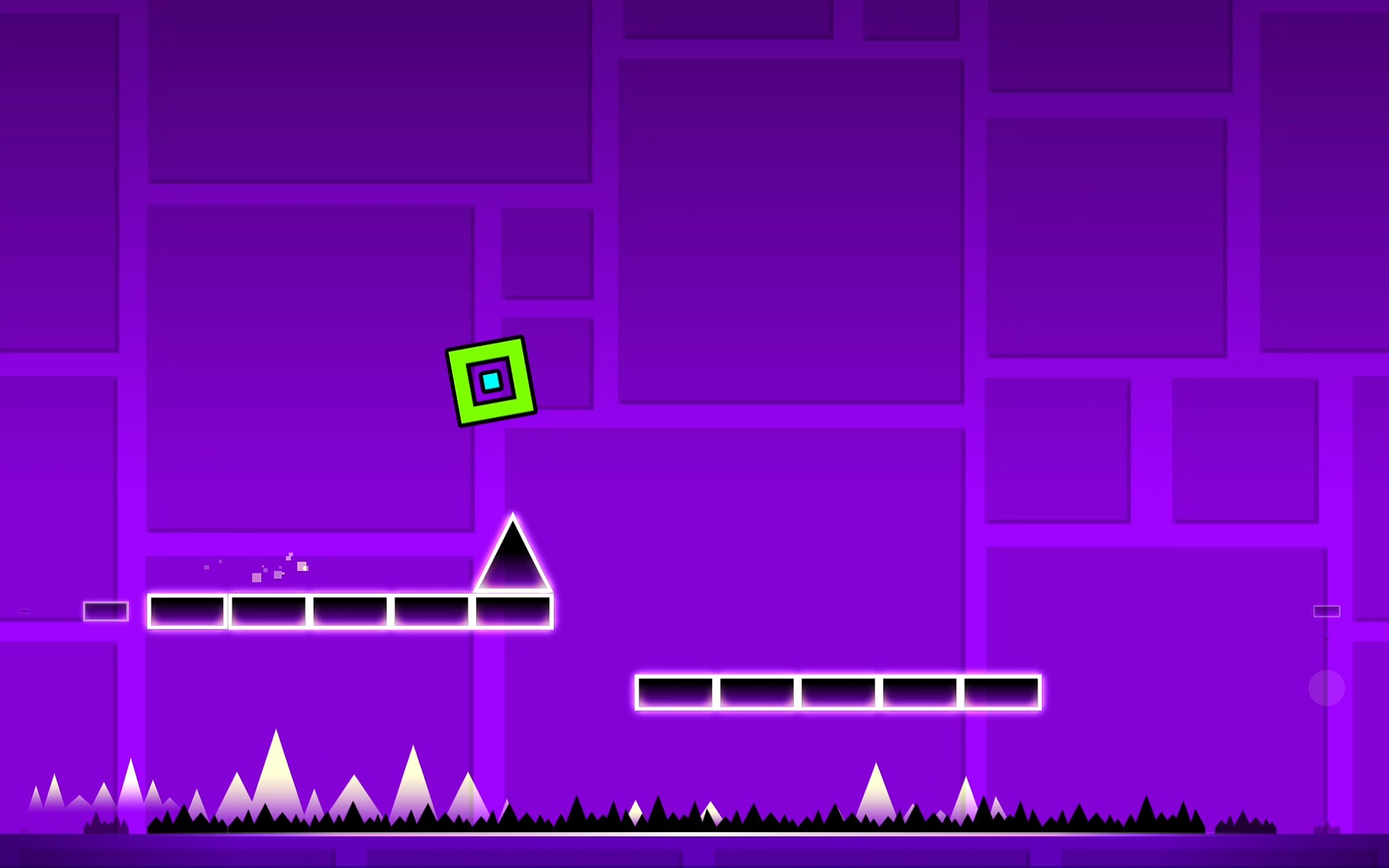Block3: (632, 675, 800, 708), (149, 596, 268, 631), (952, 674, 1046, 710), (634, 675, 719, 709), (312, 597, 394, 629), (477, 596, 552, 628), (232, 595, 305, 626), (884, 677, 956, 708), (394, 596, 467, 626), (802, 678, 874, 707), (84, 602, 127, 623)
Player: (446, 336, 536, 427)
Spike: (473, 516, 553, 594)
Spike3: (11, 792, 1367, 831)
